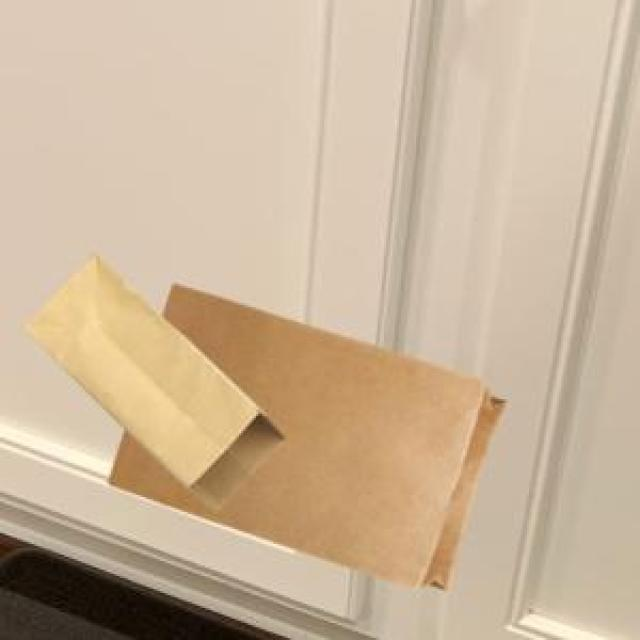paper: (105, 280, 501, 587), (21, 252, 280, 506)
